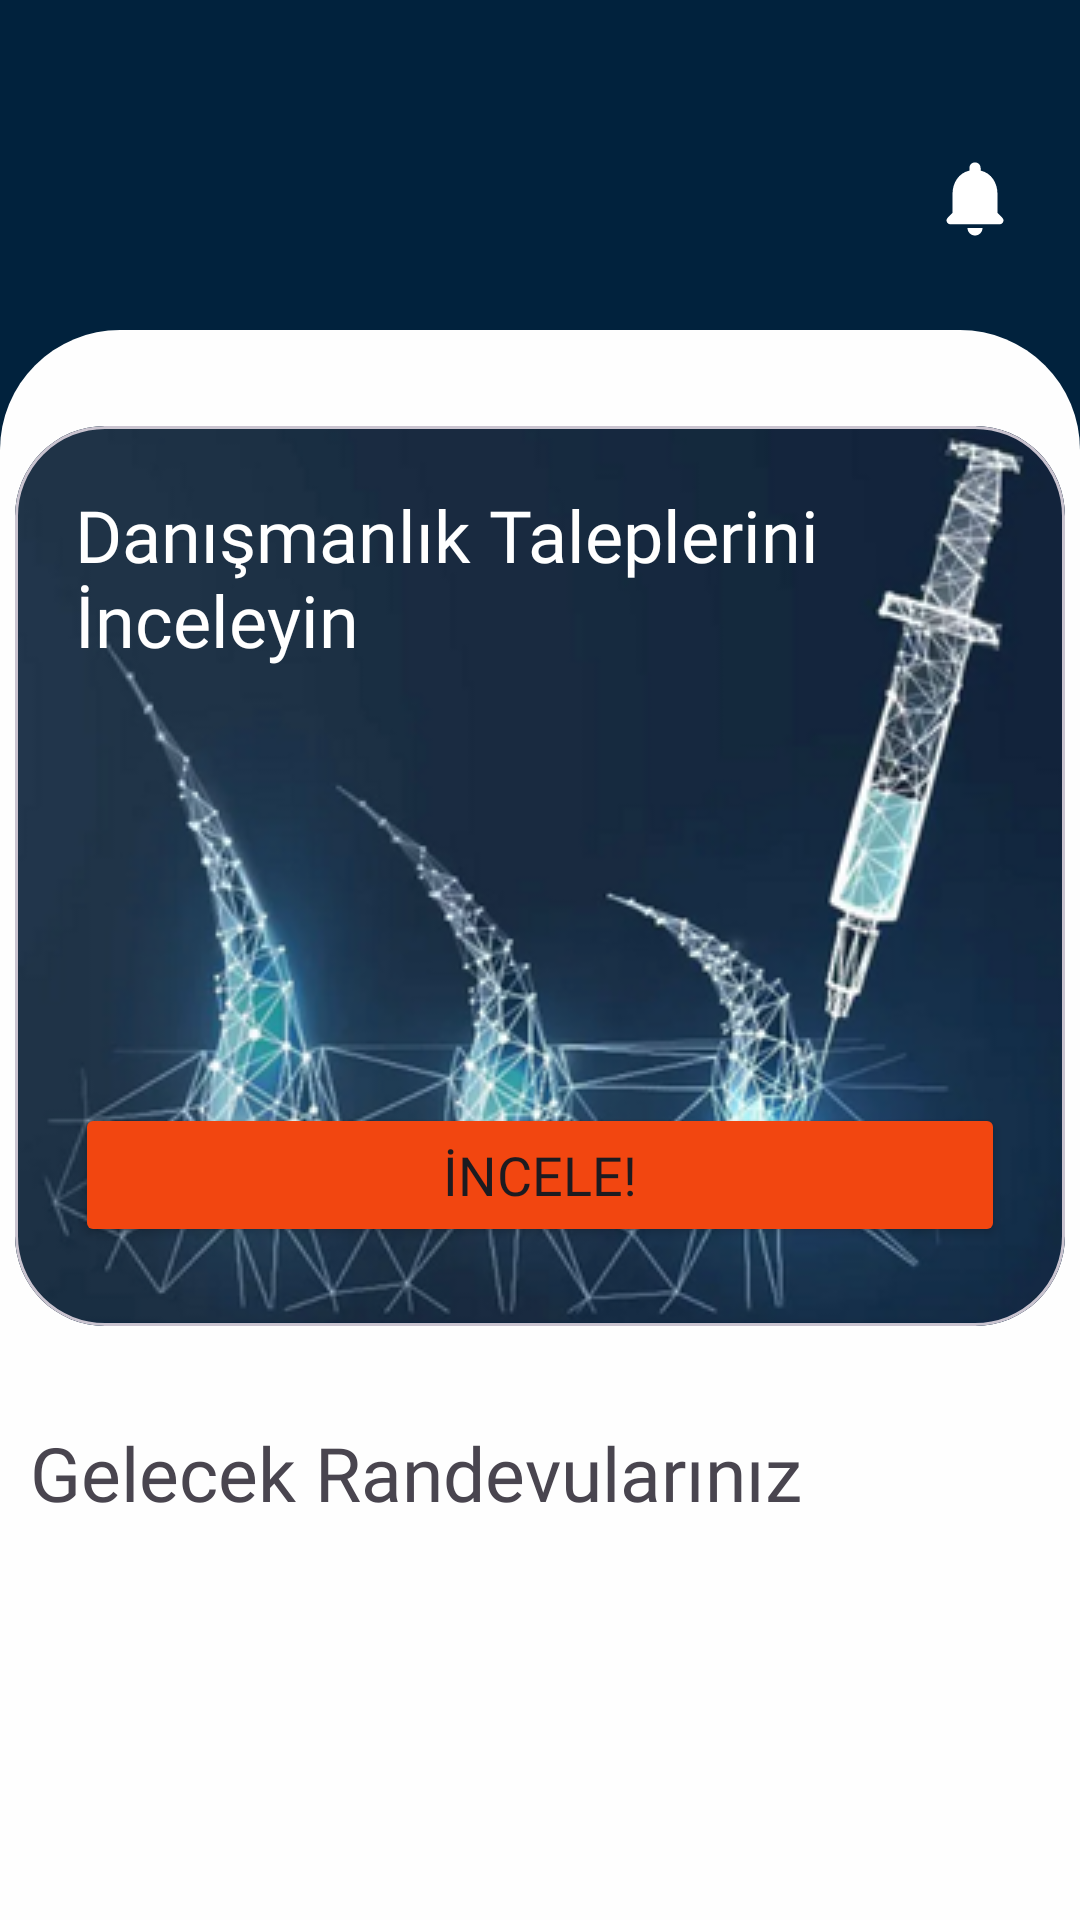

Icon bounding boxes for this 1080w x 1920h phone screenshot, format (x1, y1, x2, y2):
notifications: (946, 162, 1004, 236)
